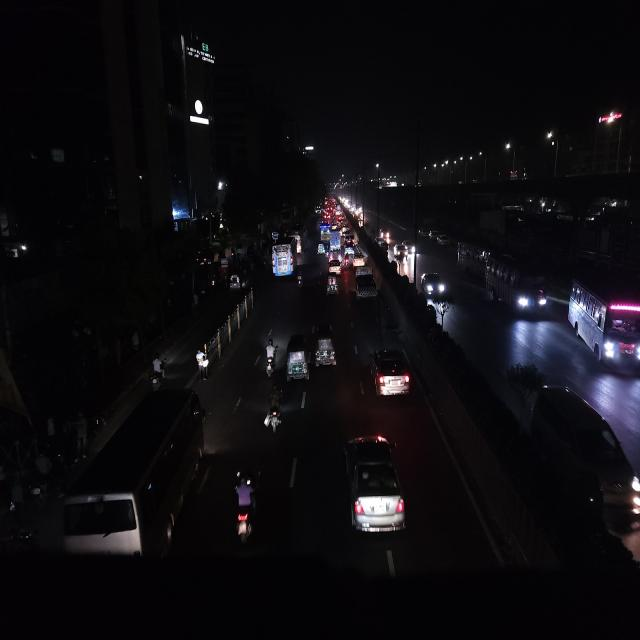bus: (58, 380, 208, 592), (566, 277, 640, 380), (482, 248, 552, 320), (266, 233, 298, 282)
car: (530, 378, 640, 551), (336, 424, 410, 544), (369, 341, 411, 406), (421, 266, 448, 302), (392, 242, 408, 259), (436, 232, 451, 249), (327, 258, 343, 273), (352, 253, 367, 266), (379, 225, 391, 240)
cng: (313, 327, 339, 372), (289, 332, 309, 386), (326, 272, 343, 300), (316, 240, 326, 256)
motorcycle: (230, 466, 260, 549), (262, 383, 287, 438), (258, 333, 280, 379), (150, 356, 164, 390), (295, 264, 306, 294), (342, 251, 350, 268)
pickup_van: (354, 262, 379, 306)
truck: (330, 226, 341, 252)
